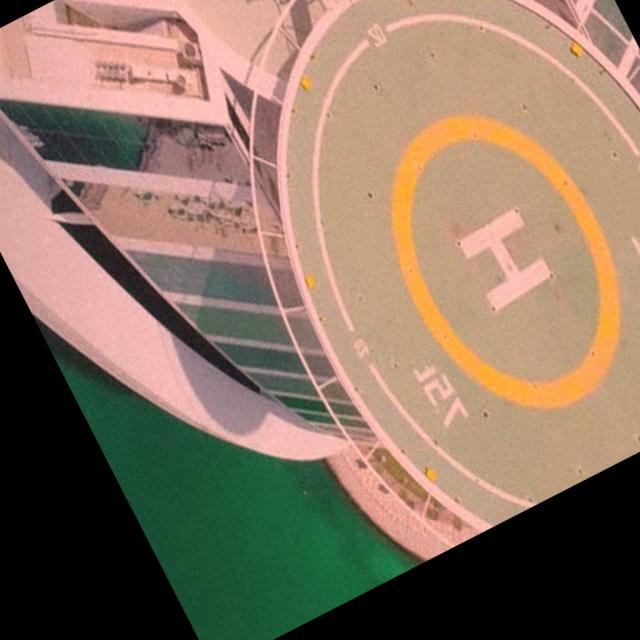helipad: (383, 102, 630, 412)
